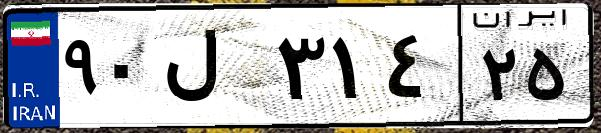0: (110, 28, 158, 98)
1: (330, 28, 385, 110)
2: (475, 38, 525, 113)
3: (270, 28, 330, 110)
4: (385, 28, 445, 110)
5: (525, 38, 570, 115)
9: (57, 26, 110, 100)
ل: (158, 20, 270, 120)
